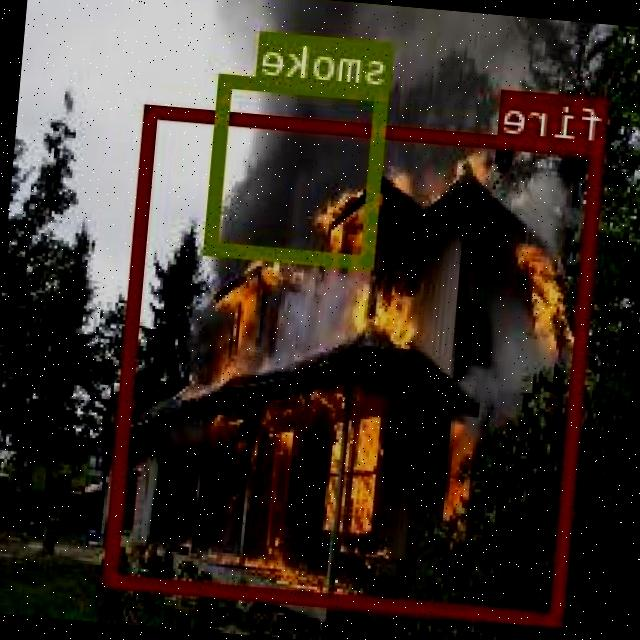fire: (108, 102, 608, 622)
smoke: (208, 71, 389, 266)
